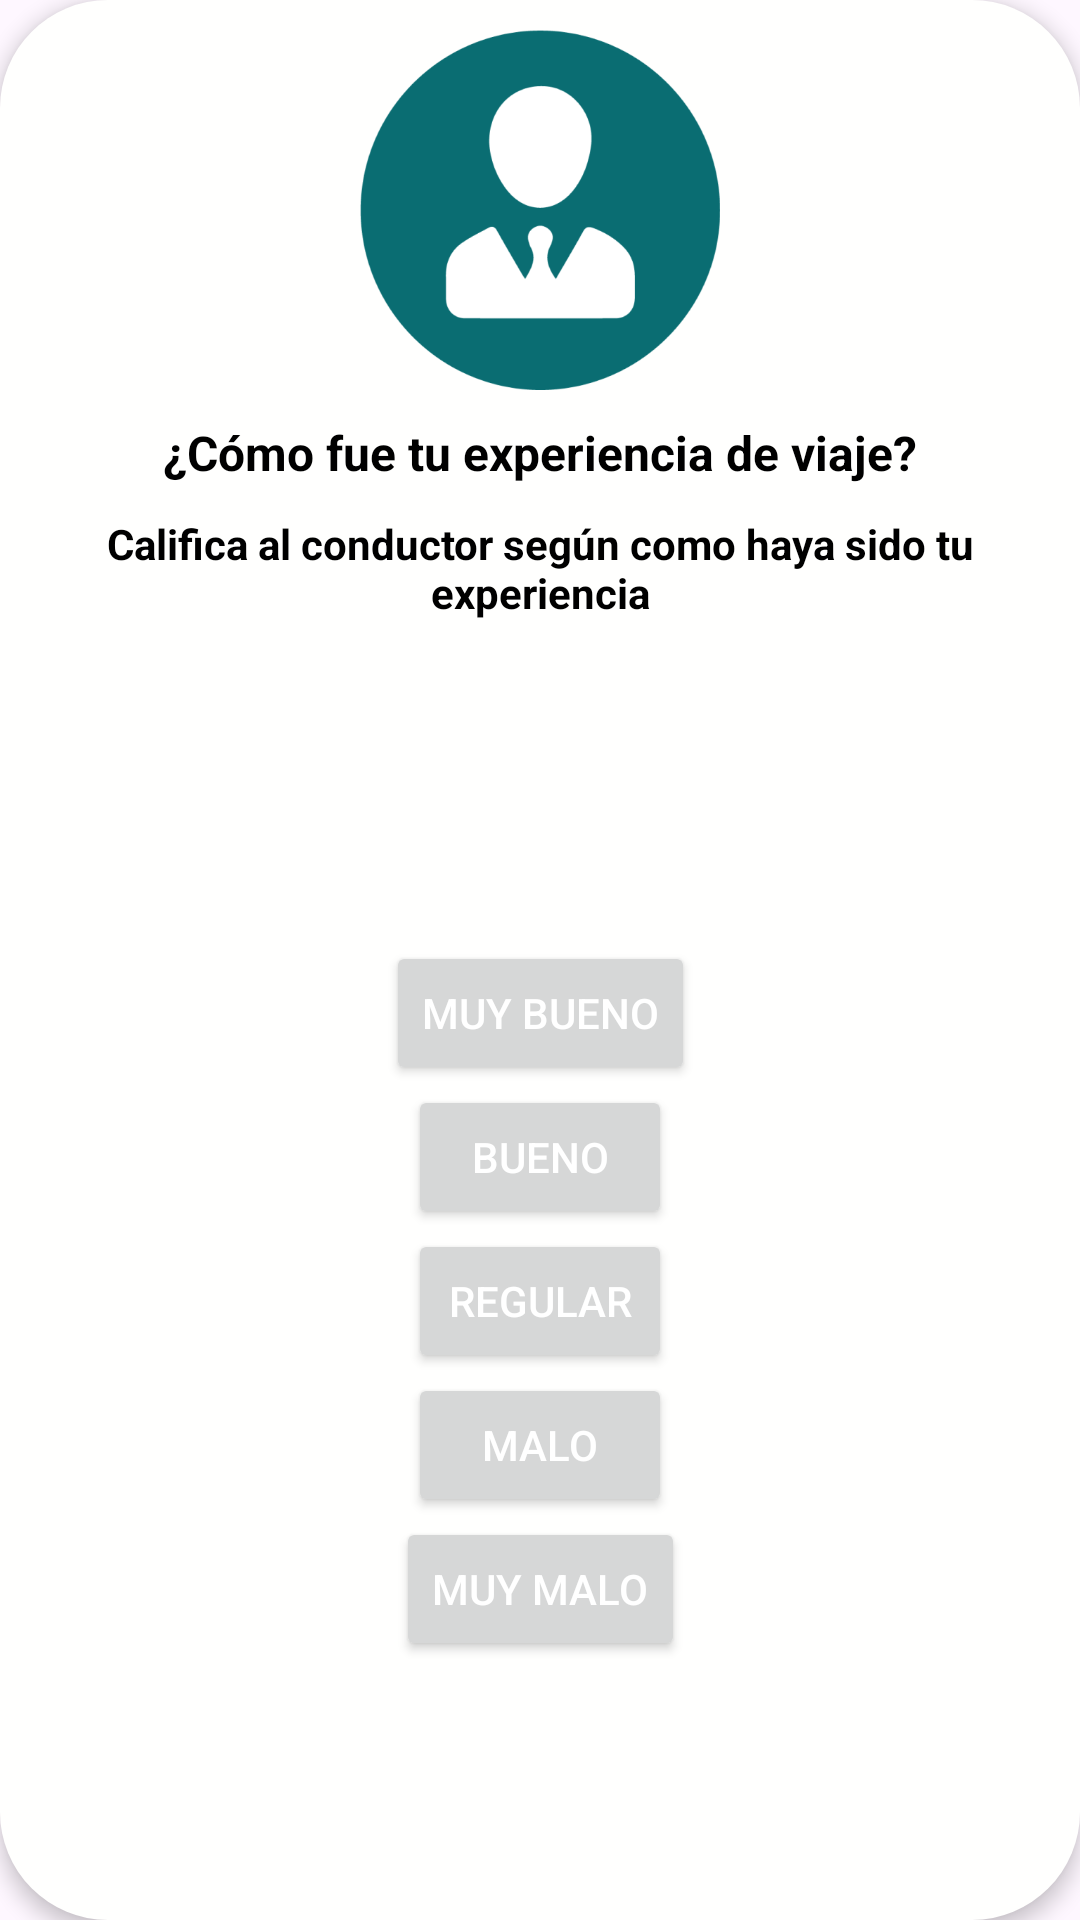

Icons on this 1080px x 1920px Android screen, each with its box as [x1, y1, x2, y2]:
personazulicon: [360, 30, 720, 390]
